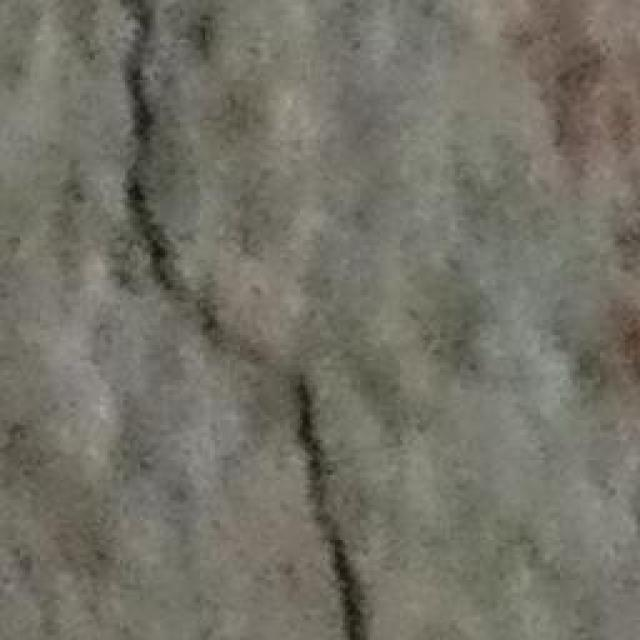Longitudinal: (105, 1, 371, 638)
